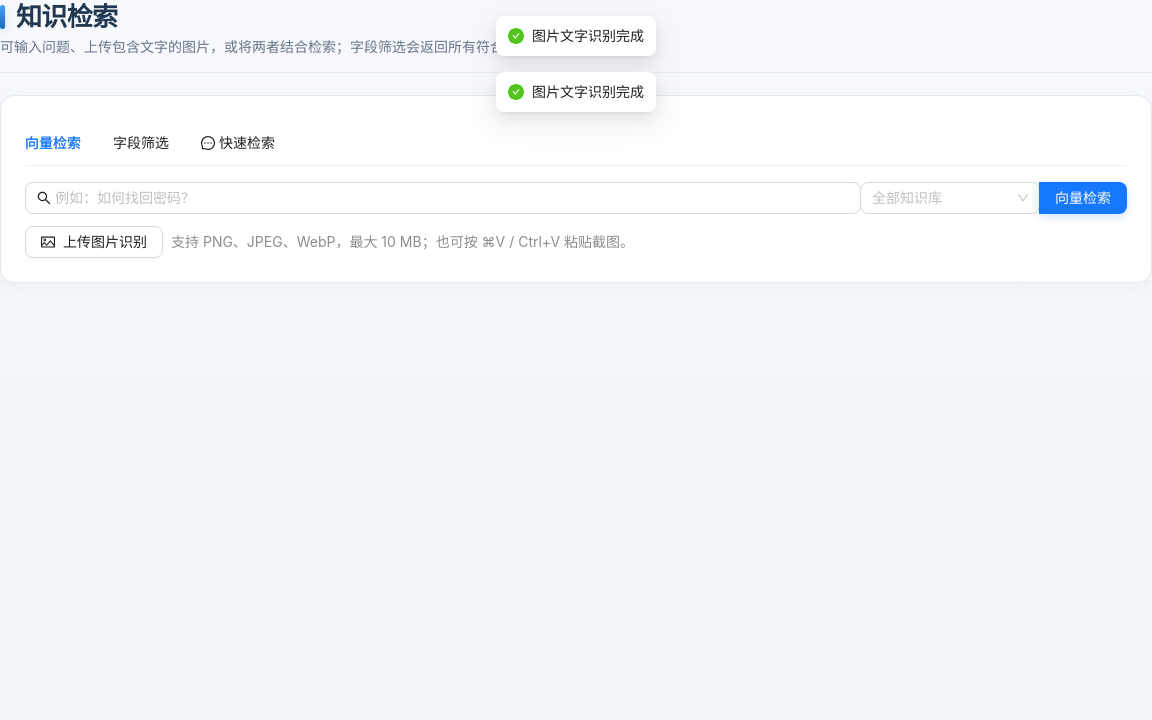
SearchPage OCR › shows a visible warning when basic-score fallback was used
This screenshot has width=1152, height=720.
Type "密码怎么找回？" into the field with placeholder "例如：如何找回密码？" at coordinates (452, 198), box left=55, top=187, right=849, bottom=209
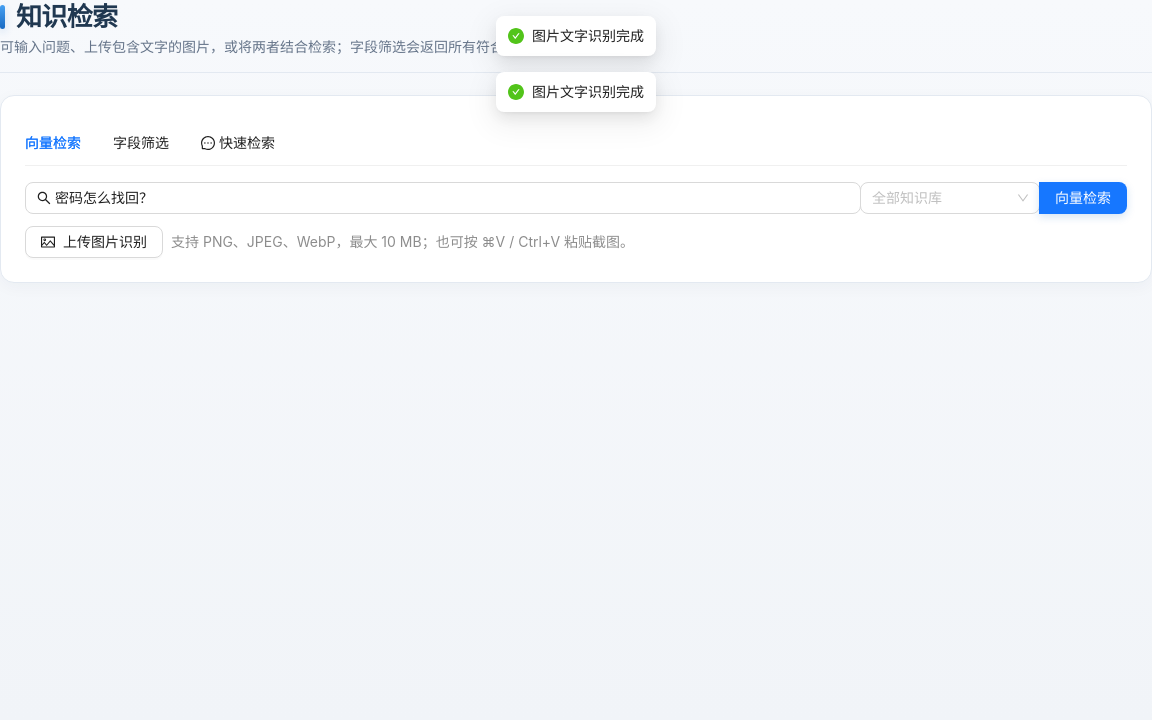
Click the button "向量检索" at coordinates (1083, 198), box left=1039, top=182, right=1127, bottom=214
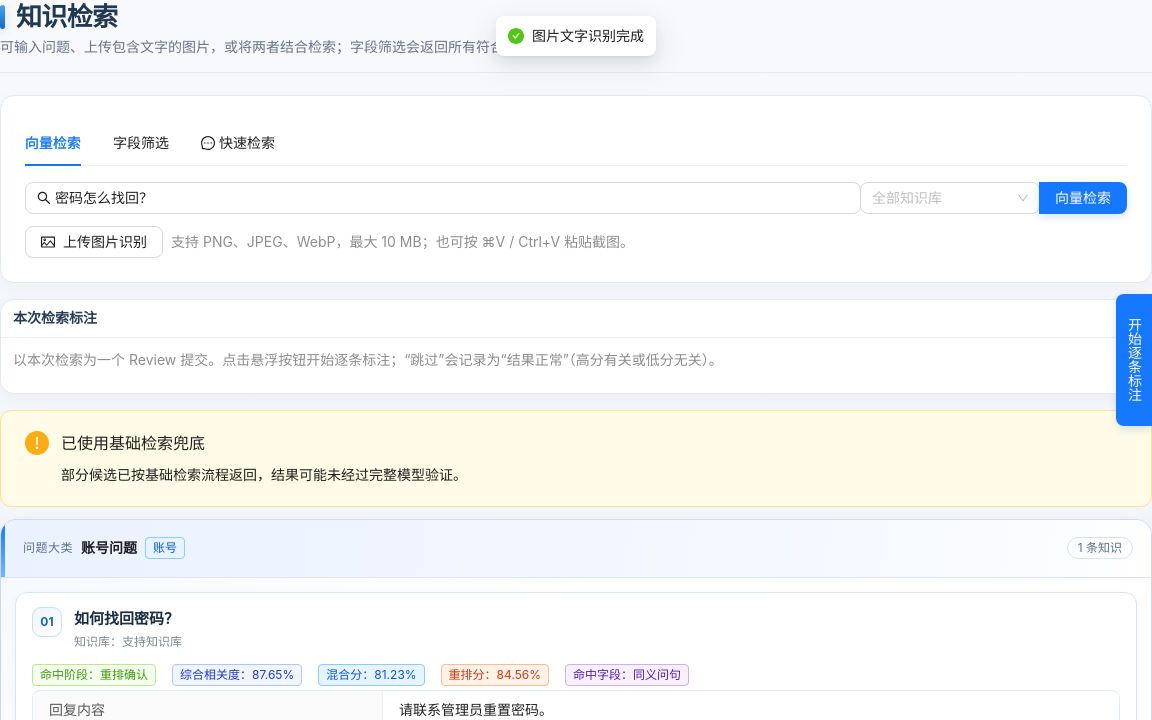
Now the text "已使用基础检索兜底" is shown, box left=61, top=433, right=205, bottom=453
